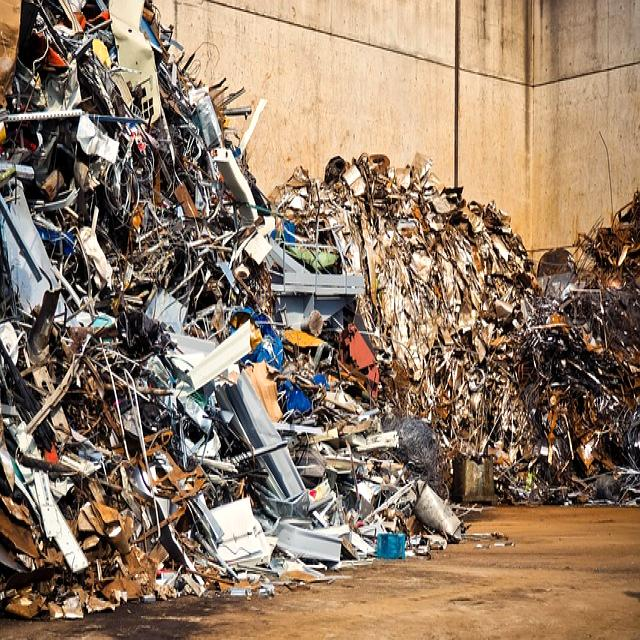Garbage: (0, 0, 640, 632)
